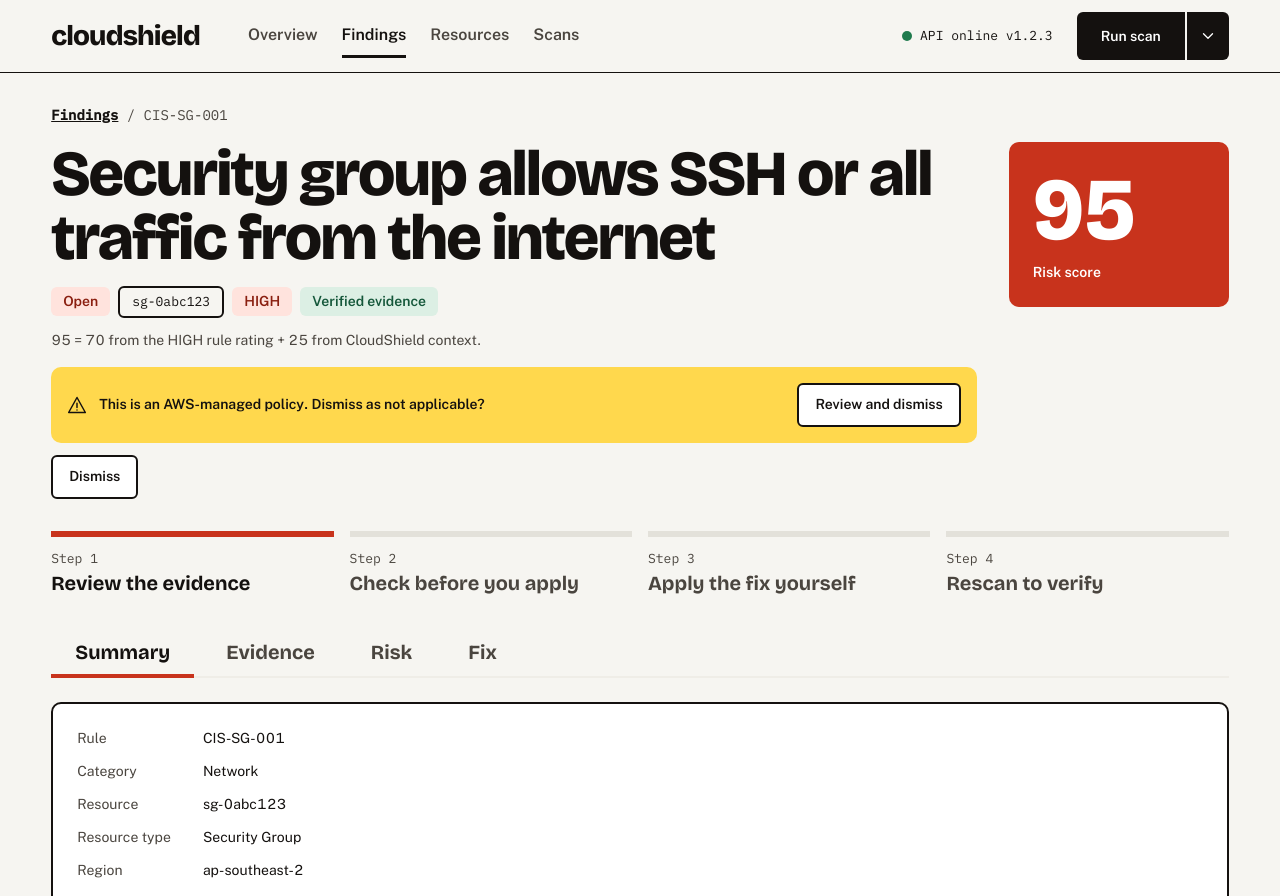
Test case: Finding page: dismissing › shows a suggestion that only opens the dialog, and sends nothing by itself
Expected: the element that starts with "This is an AWS-managed policy." shows "This is an AWS-managed policy. Dismiss as not applicable?", top-left (51, 366), bottom-right (977, 442)
Click the button "Review and dismiss" at (879, 404), box top-left (797, 382), bottom-right (961, 426)
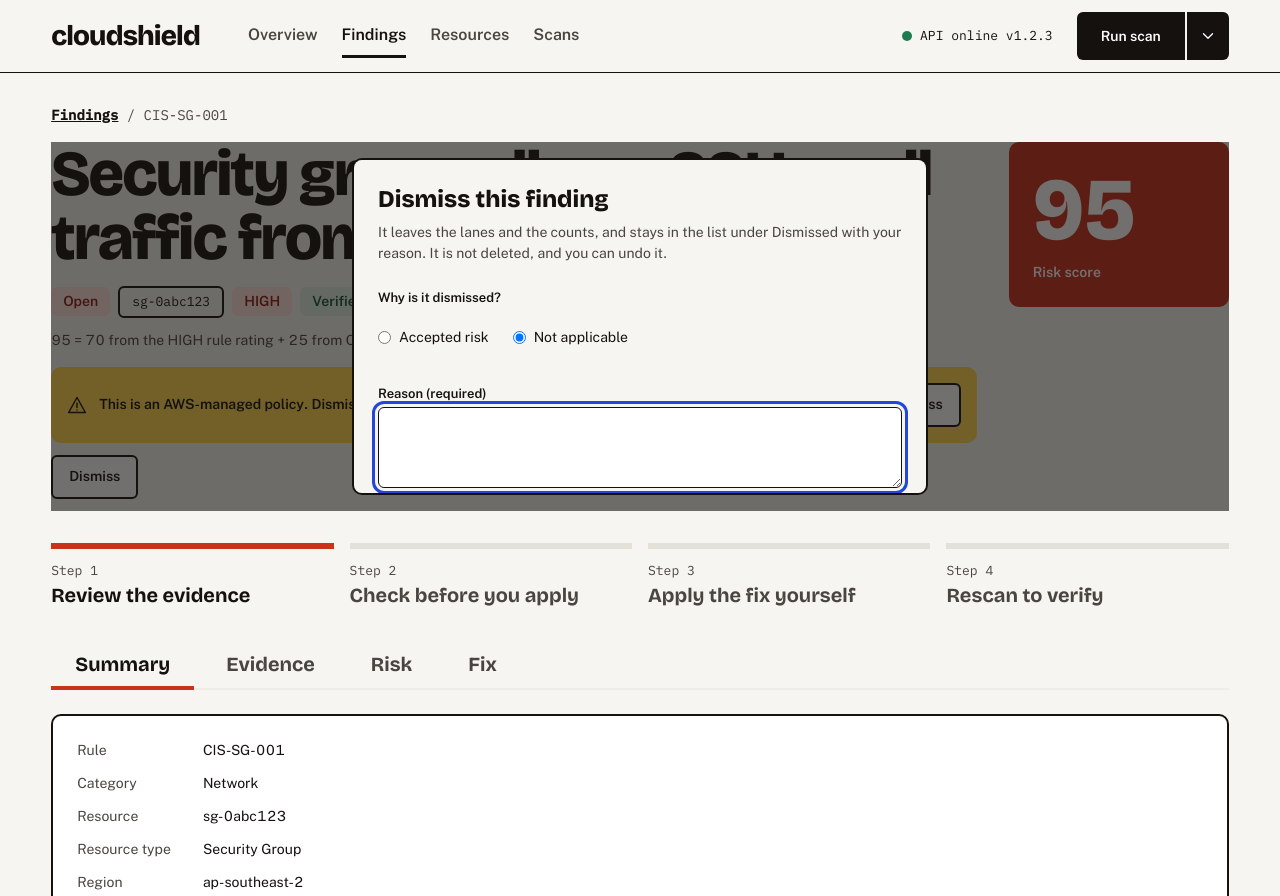
Result: the radio button labelled "Not applicable" is checked at top-left (513, 331), bottom-right (526, 344)
